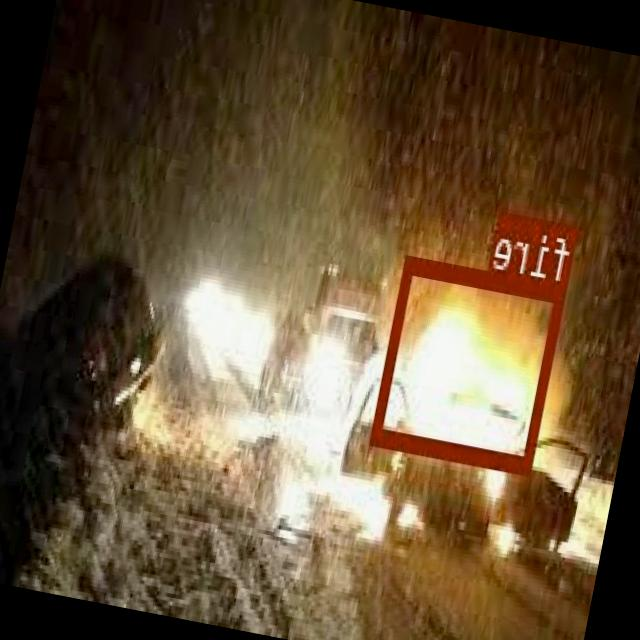fire: (374, 256, 568, 472)
